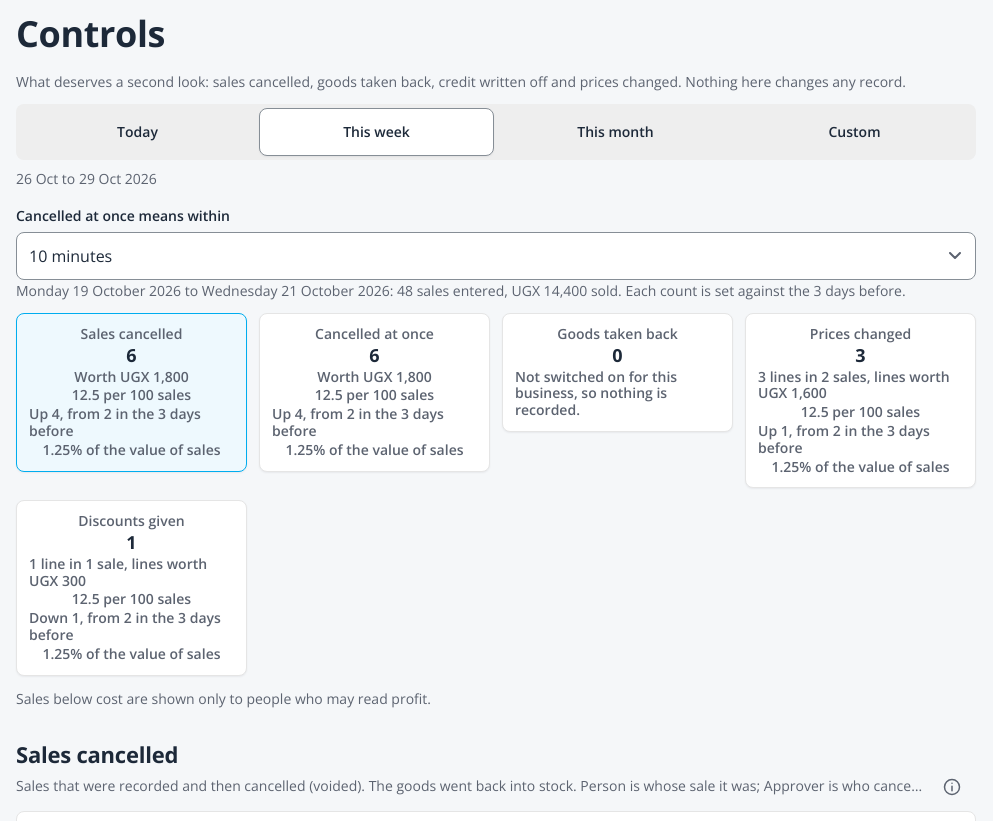
Test case: the tables › follow the card that was tapped
Expected: the text "Sales cancelled" is shown, [81,326,182,343]
Click the button "Prices changed": [860, 401] box [745,313,976,488]
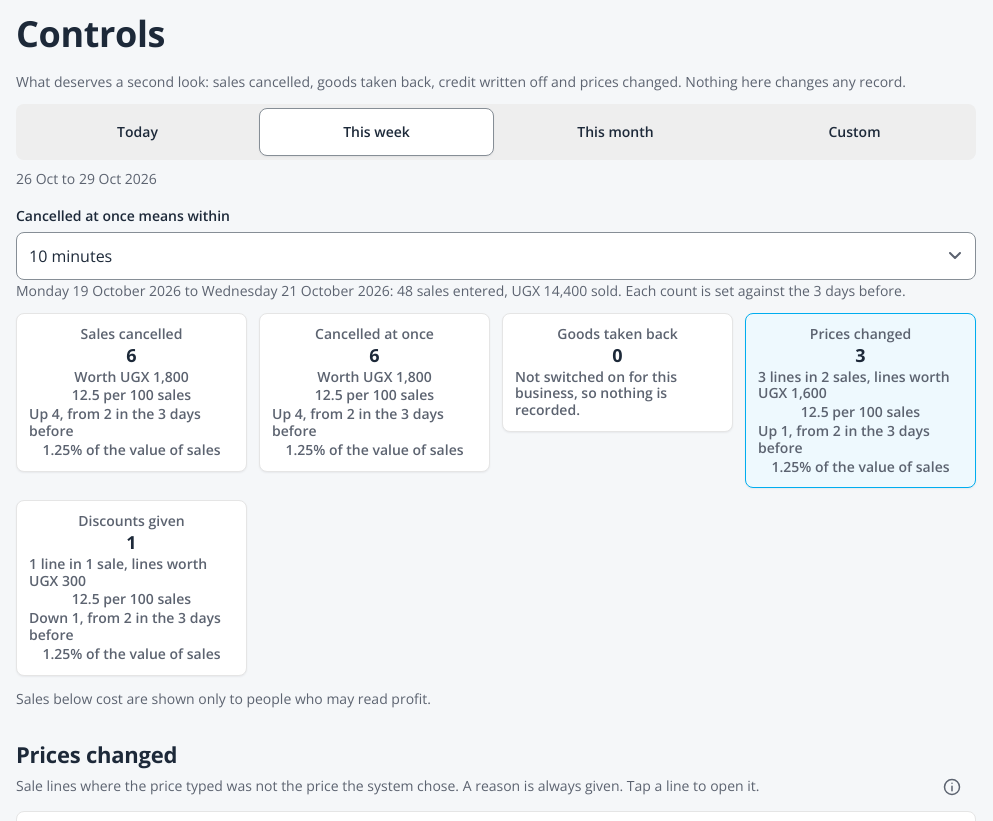
Expected: the heading "Prices changed" is shown, [16,738,177,768]
